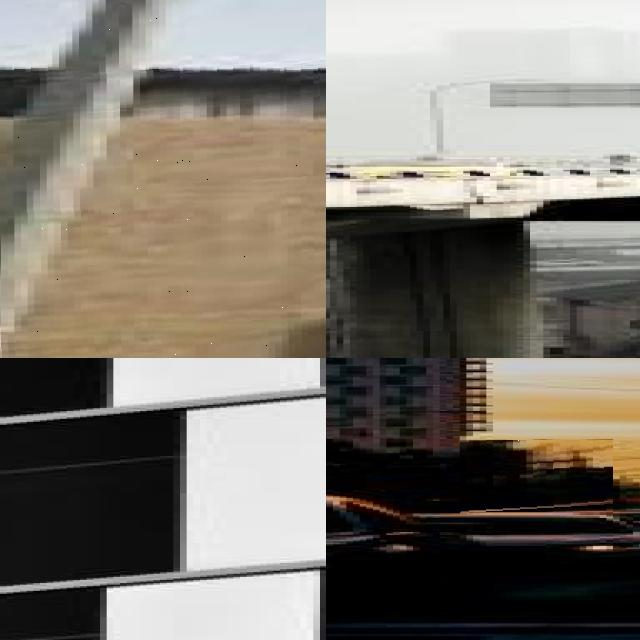street light: (0, 0, 326, 358), (326, 411, 492, 519), (460, 440, 613, 514), (430, 78, 550, 160), (552, 457, 640, 512), (606, 466, 640, 510), (619, 471, 640, 508)
